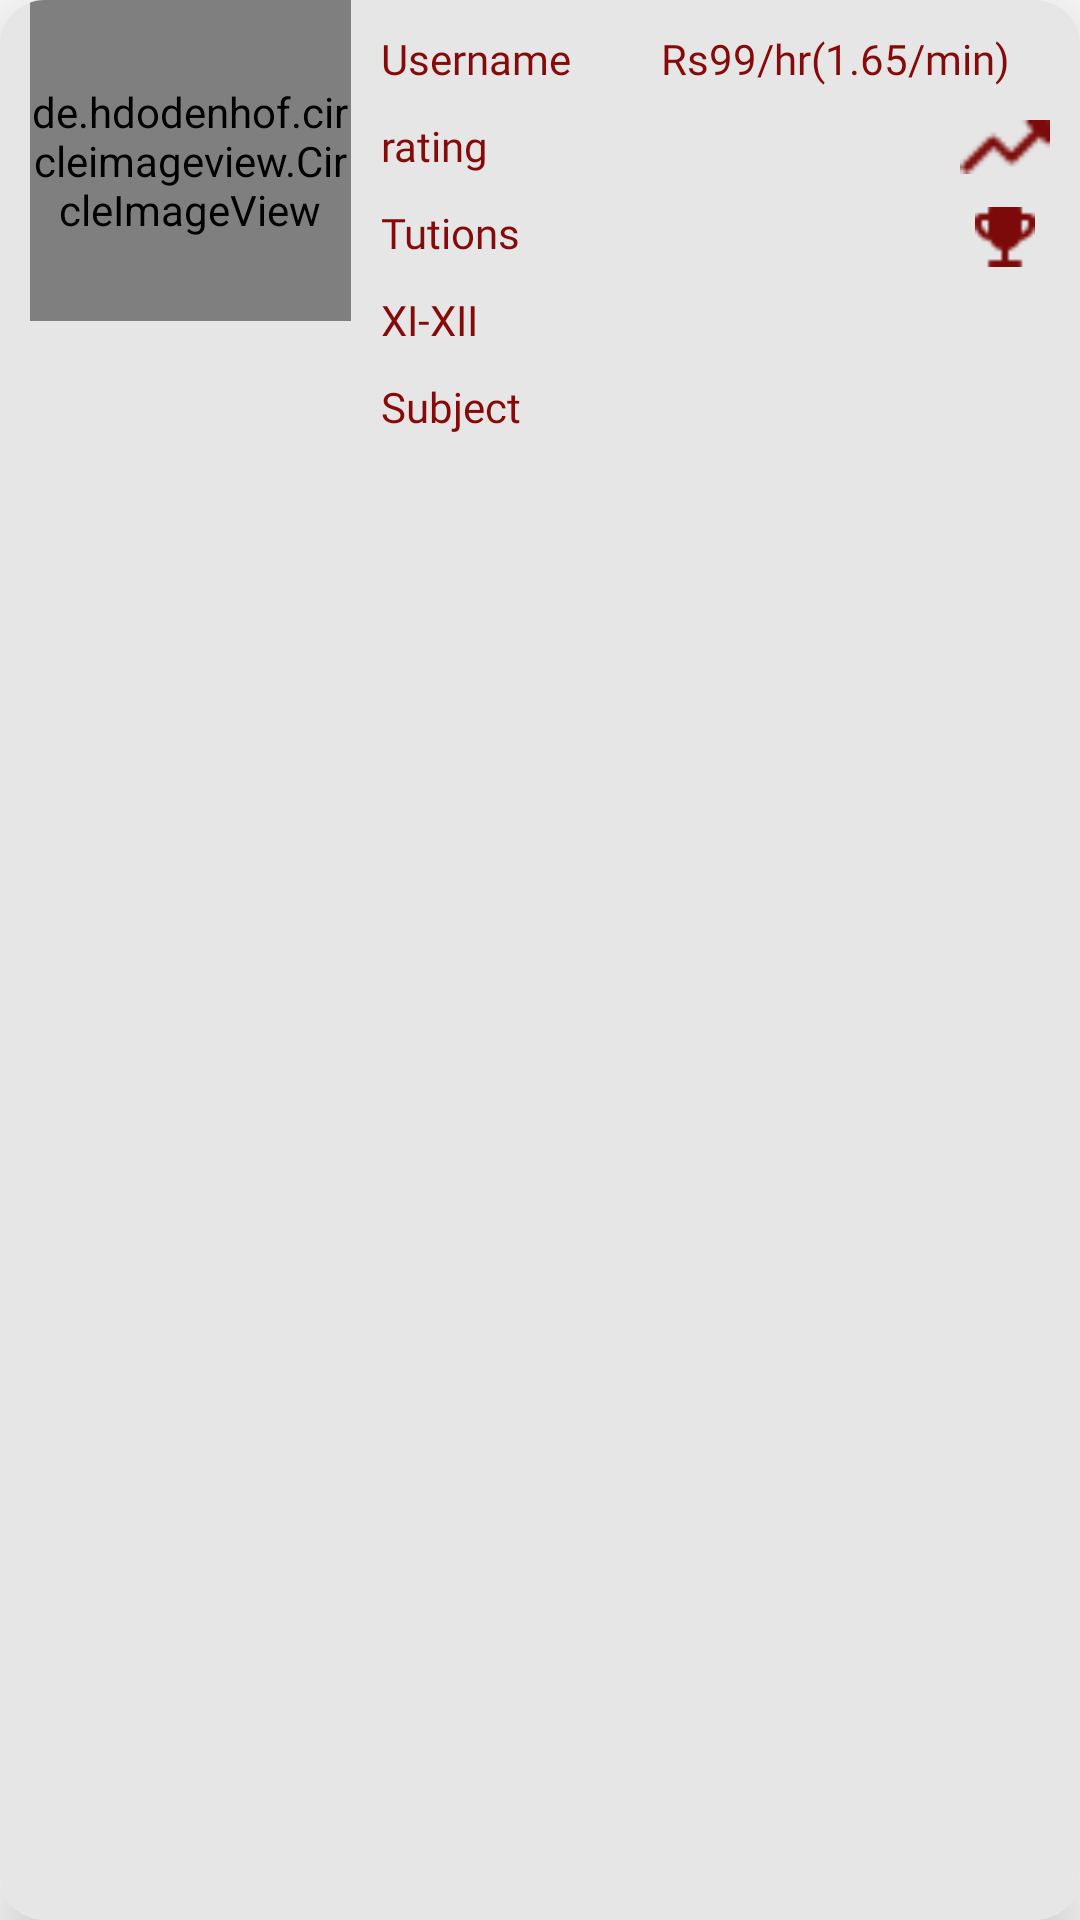

Icons on this 1080x1920 Android screen, each with the point to tap as point (x, y):
line: point (1005, 147)
trophy: point (1005, 237)
